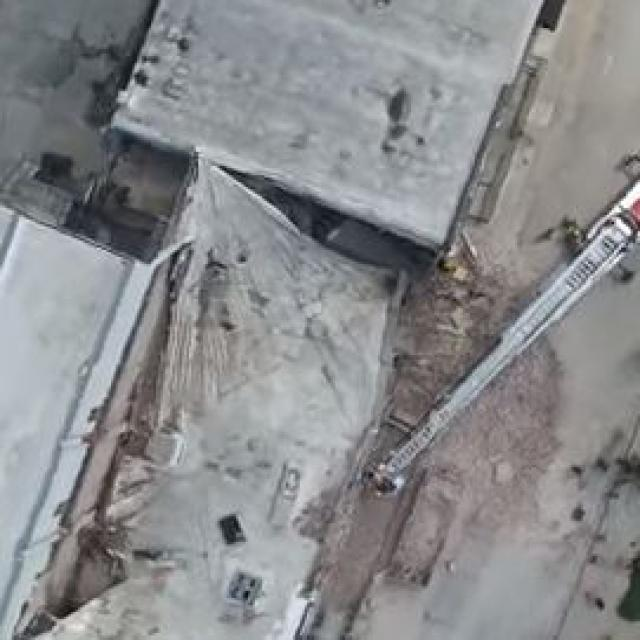collapsed_building: (111, 203, 390, 638)
